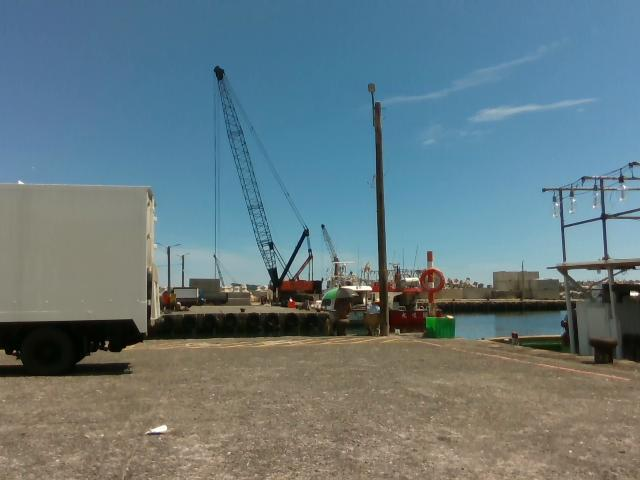pollute: (145, 423, 169, 435)
